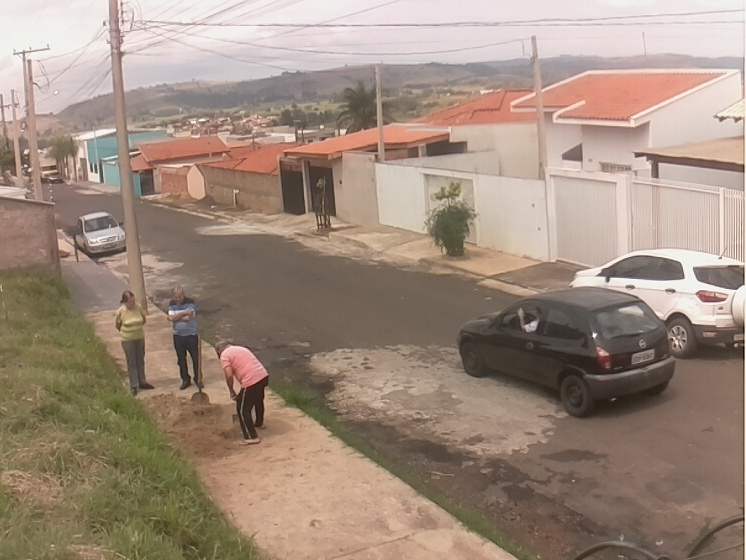person: (214, 338, 272, 445), (113, 289, 157, 395), (166, 285, 206, 391), (516, 303, 547, 336)
